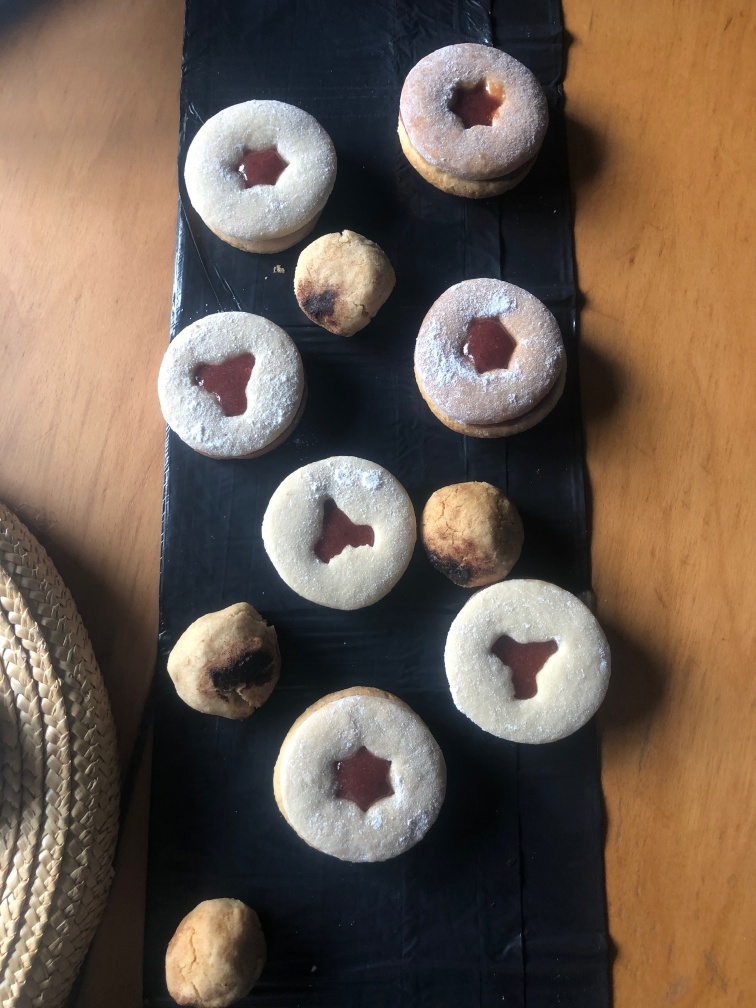christmas shortbread with jam: (437, 576, 622, 751), (272, 685, 443, 866), (411, 271, 573, 441), (260, 448, 418, 618), (183, 93, 335, 256), (398, 39, 546, 199), (155, 307, 304, 454)
snowball: (168, 593, 284, 718), (296, 231, 398, 335), (161, 901, 256, 1006), (422, 476, 517, 571)
